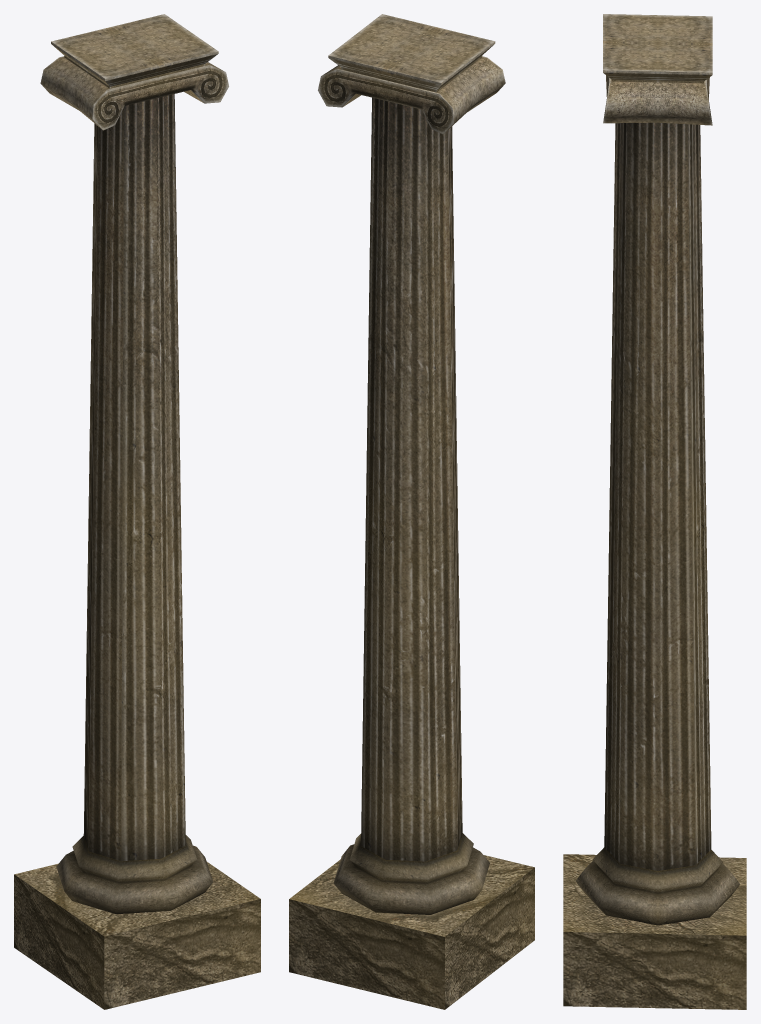
File: cot1.fbx
3 renders of one model, left to right at view 1: azimuth 30°, elevation 25°; view 2: azimuth 150°, elevation 25°; view 3: azimuth 270°, elevation 25°, orthographic.
Parts seen in each view (by area): view 1: Object065; view 2: Object065; view 3: Object065.
Boxes of the visible parts, x1=… form: Object065: x1=14, y1=14, x2=260, y2=1009; Object065: x1=289, y1=14, x2=534, y2=1009; Object065: x1=563, y1=14, x2=746, y2=1009.
Bounding box in the file's own units: 248 × 1388 × 248.
Materials: 1 (1 with a texture image).
